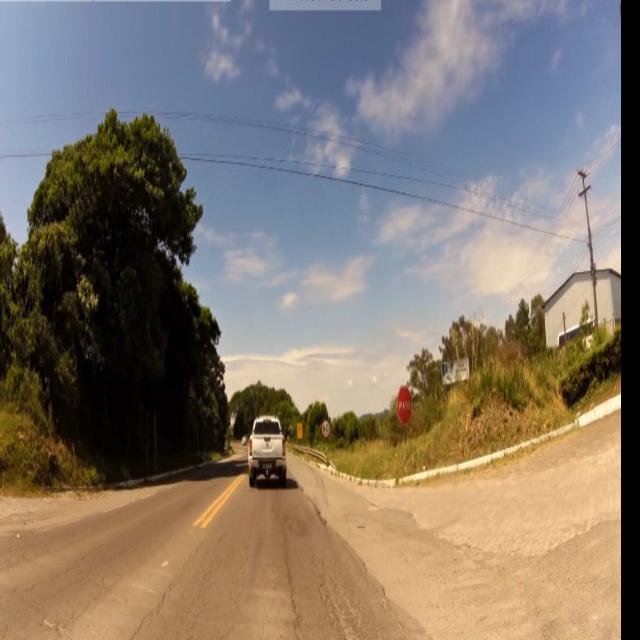R-1: (396, 385, 414, 429)
